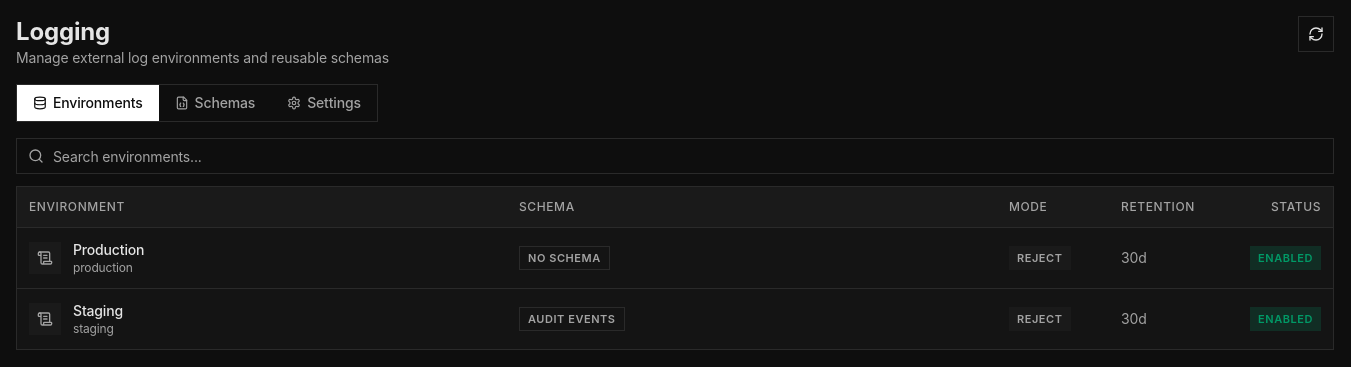
Test: Logging UI › renders and filters logging environment rows on the main page
Check: the text "Production" is shown, box [73,240,144,260]
Check: the text "Staging" is shown, box [73,301,123,321]
In the field with placeholder "Search environments...": (675, 156) [16,138,1334,174], type "prod"
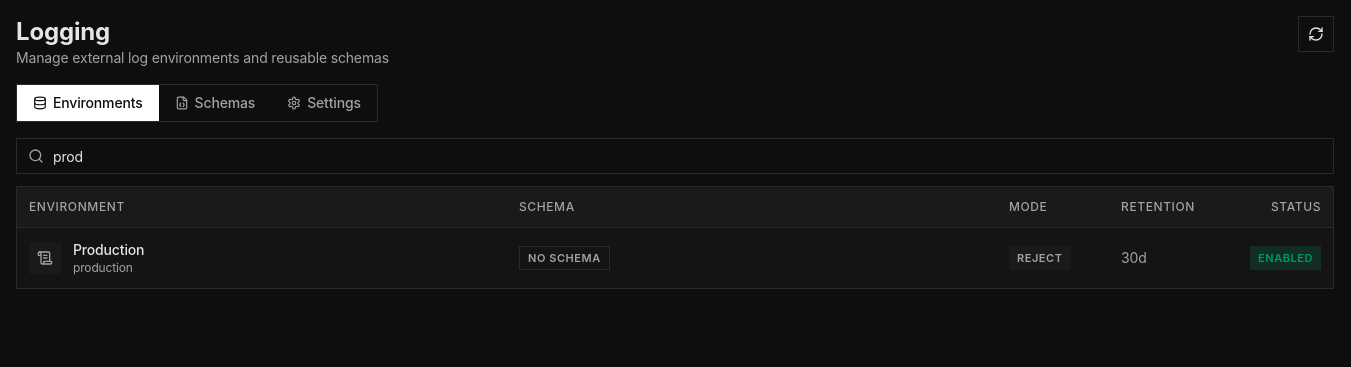
Check: the text "Production" is shown, box [73,240,144,260]
Check: the text "Staging" is gone
